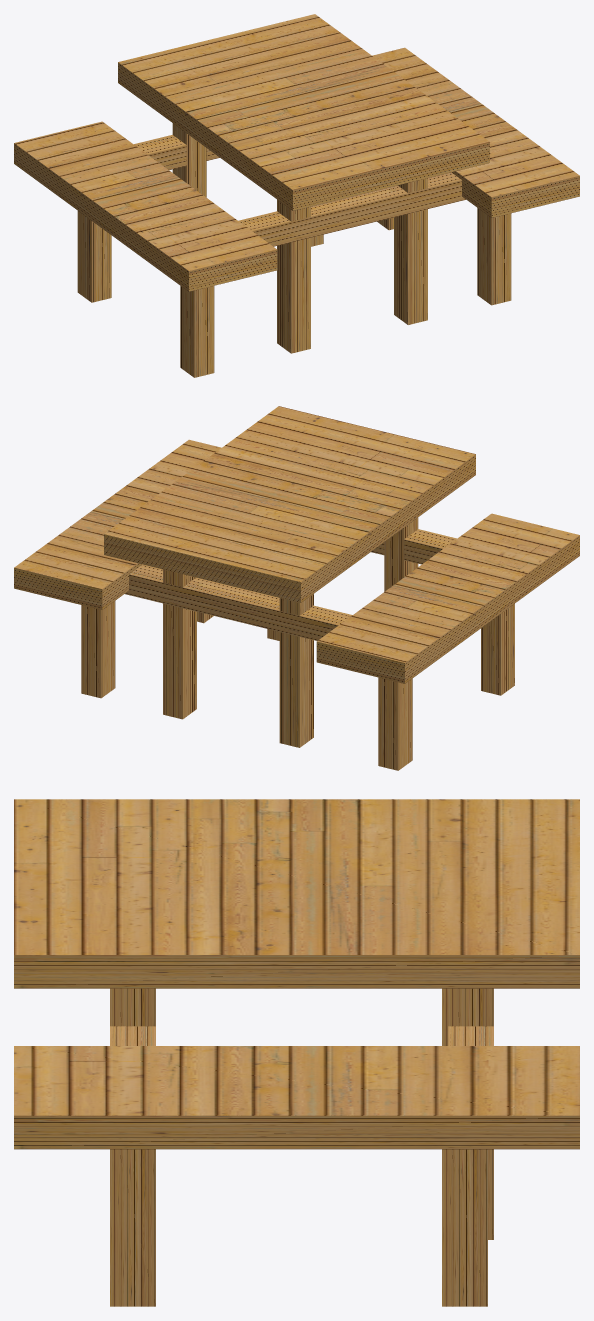
File: mesa outros.fbx
The picture shows the model from 3 angles, top to bottom: view 1: azimuth 30°, elevation 25°; view 2: azimuth 150°, elevation 25°; view 3: azimuth 270°, elevation 25°; orthographic projection. The views are drawn at different scales.
Parts seen in each view (by area): view 1: pCube766, pCube773, pCube774, pCube779, pCube785, pCube784, pCube781, pCube778, pCube783, pCube786, pCube780; view 2: pCube766, pCube773, pCube774, pCube780, pCube786, pCube787, pCube782, pCube783, pCube778, pCube785, pCube779; view 3: pCube766, pCube774, pCube781, pCube782, pCube787, pCube784, pCube779, pCube780.
Part boxes in pixels (left/top/right/bottom): pCube766: left=118, top=14, right=489, bottom=210; pCube773: left=14, top=121, right=277, bottom=291; pCube774: left=372, top=47, right=579, bottom=217; pCube779: left=238, top=172, right=465, bottom=246; pCube785: left=277, top=199, right=310, bottom=353; pCube784: left=394, top=178, right=427, bottom=324; pCube781: left=477, top=208, right=511, bottom=305; pCube778: left=180, top=286, right=214, bottom=377; pCube783: left=77, top=211, right=111, bottom=302; pCube786: left=172, top=123, right=206, bottom=197; pCube780: left=134, top=135, right=219, bottom=169; pCube766: left=104, top=406, right=475, bottom=602; pCube773: left=316, top=513, right=579, bottom=683; pCube774: left=14, top=439, right=221, bottom=609; pCube780: left=125, top=564, right=352, bottom=640; pCube786: left=279, top=594, right=313, bottom=747; pCube787: left=163, top=569, right=196, bottom=719; pCube782: left=81, top=601, right=115, bottom=698; pCube783: left=378, top=677, right=412, bottom=770; pCube778: left=481, top=604, right=514, bottom=695; pCube785: left=384, top=517, right=418, bottom=591; pCube779: left=371, top=529, right=456, bottom=564; pCube766: left=14, top=799, right=579, bottom=988; pCube774: left=14, top=1046, right=579, bottom=1149; pCube781: left=110, top=1149, right=155, bottom=1306; pCube782: left=442, top=1149, right=487, bottom=1306; pCube787: left=448, top=988, right=493, bottom=1239; pCube784: left=110, top=988, right=155, bottom=1026; pCube779: left=110, top=1026, right=155, bottom=1045; pCube780: left=448, top=1026, right=493, bottom=1045.
Size of the model in its own units: 4.46 by 2.1 by 3.46.
